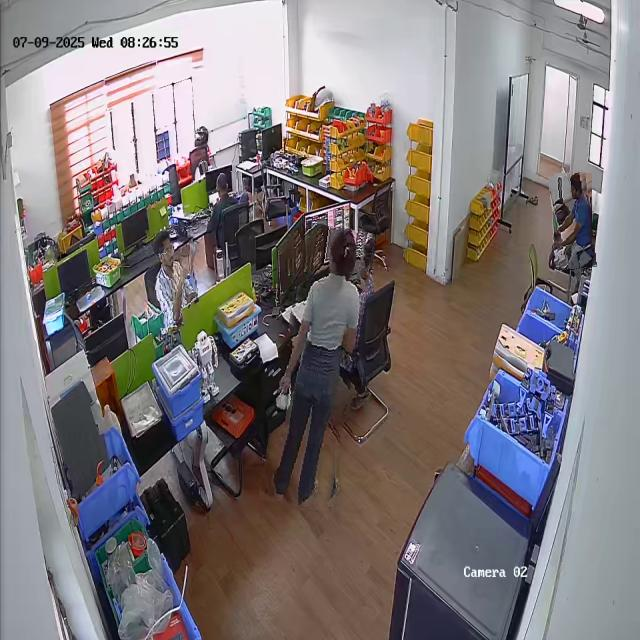person: (270, 224, 366, 510), (147, 227, 198, 328), (551, 173, 595, 270), (202, 172, 238, 230)
